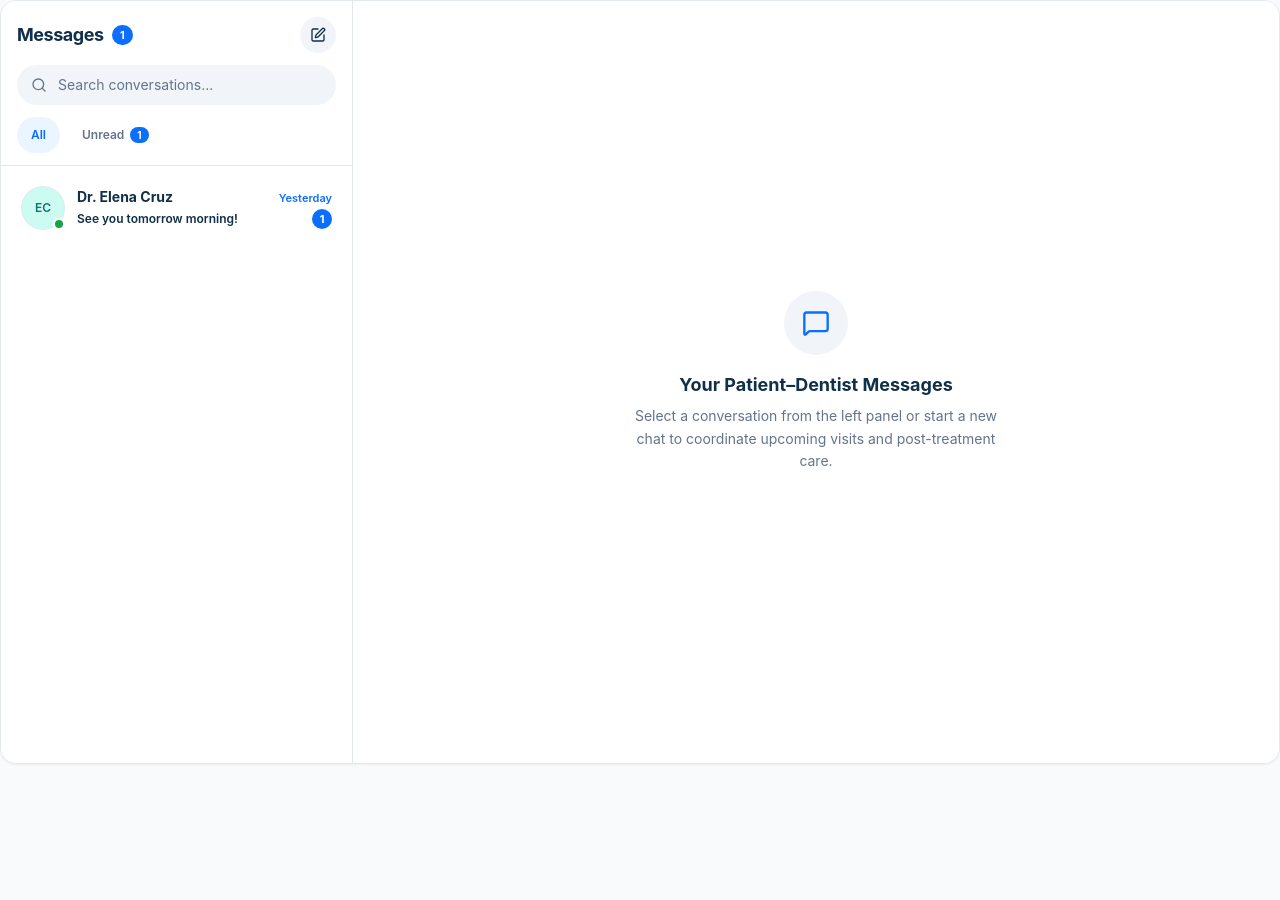
Test: Messenger-Style Patient-Dentist Chat (MessagesPage) › supports IME-safe Enter to send, Shift+Enter newline, failed send retry, and typing indicator
Click the button with test id "conversation-item-1".
click(176, 208)  # box [9,174,344,242]
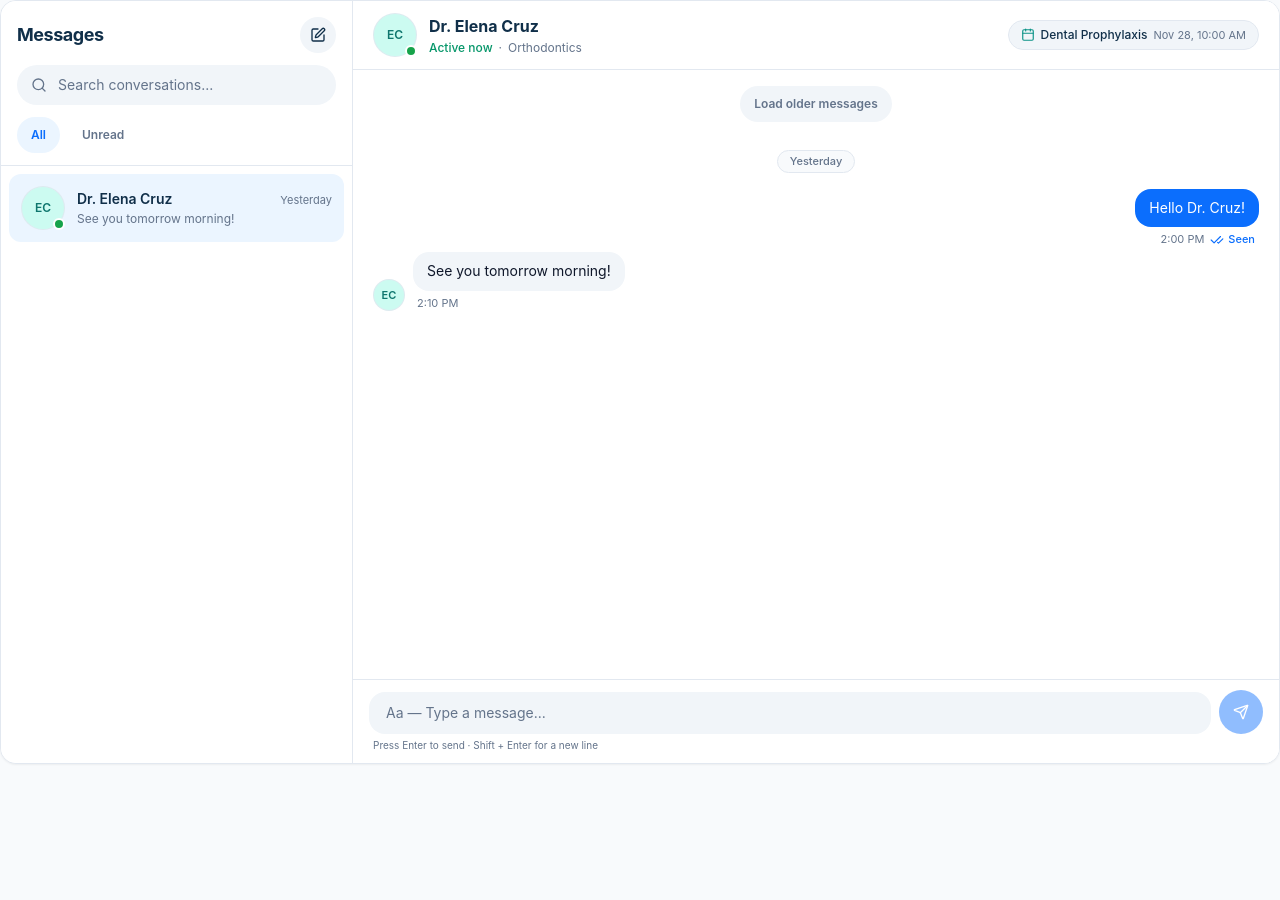
Result: the button "Hello Dr. Cruz!" is shown at [1135,188,1259,227]
Type "Can I arrive 10 minutes early?" into the text box named "Write a message".
click(790, 713); type("Can I arrive 10 minutes early?")  # box [369,692,1211,734]
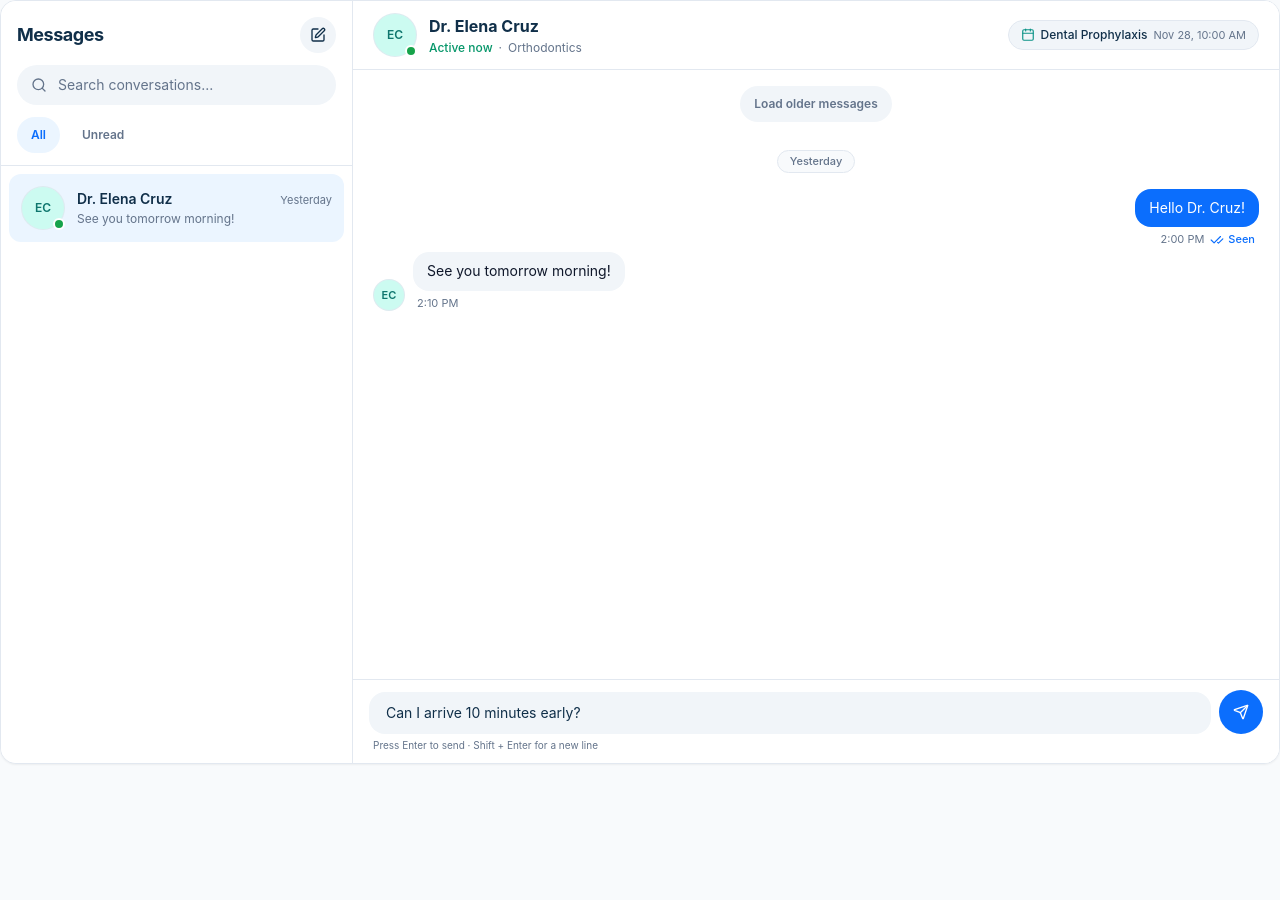
IME composing Enter MUST NOT submit
Press Enter in the text box named "Write a message", box [369,692,1211,734]
Press Enter in the text box named "Write a message", box [369,692,1211,734]
Shift+Enter MUST NOT submit
Press Enter in the text box named "Write a message", box [369,692,1211,734]
Press Enter in the text box named "Write a message", box [369,692,1211,734]
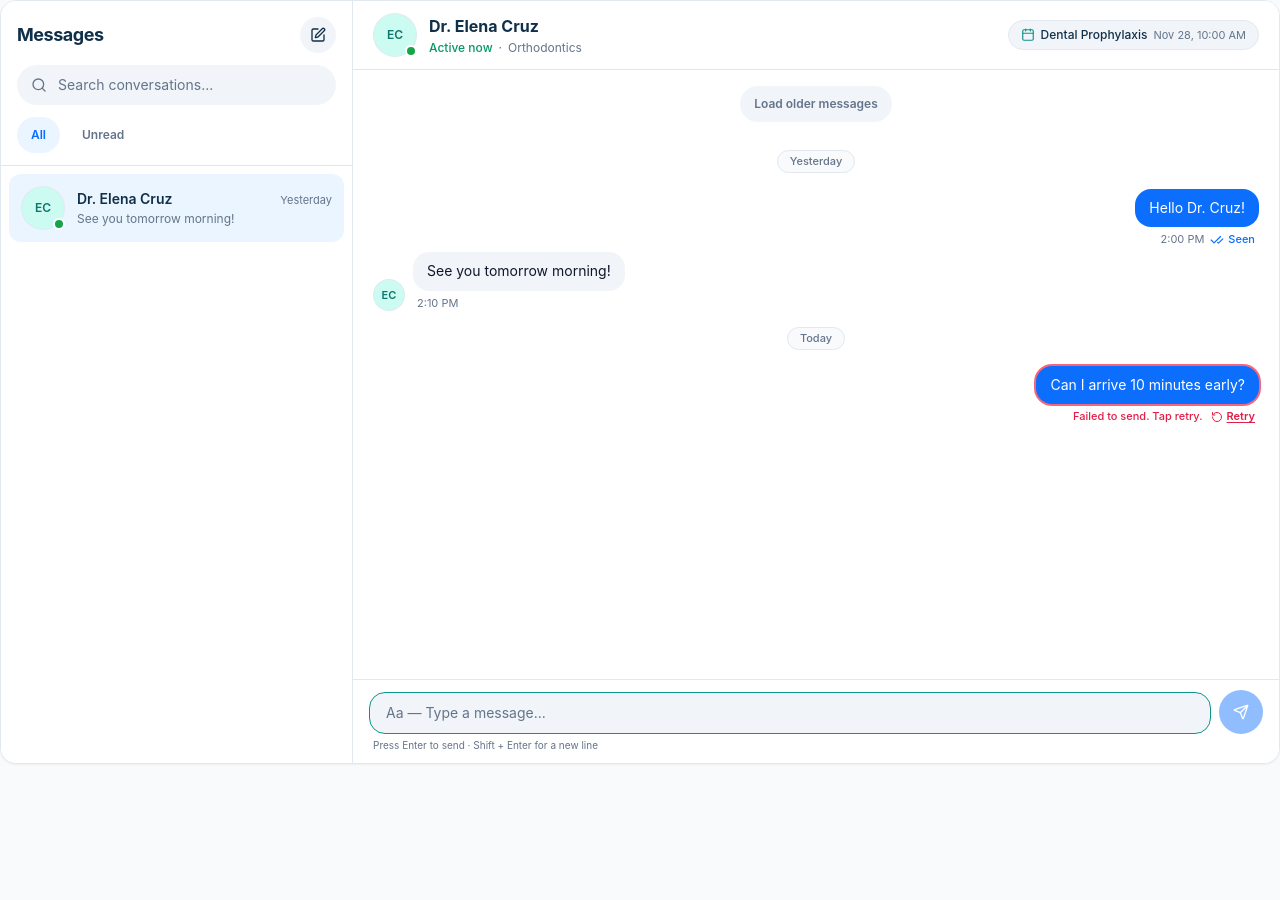
Result: the button "Retry" is shown
Clicking Retry resends with same clientMessageId and succeeds
Click the button "Retry".
click(1233, 417)  # box [1211,408,1255,425]
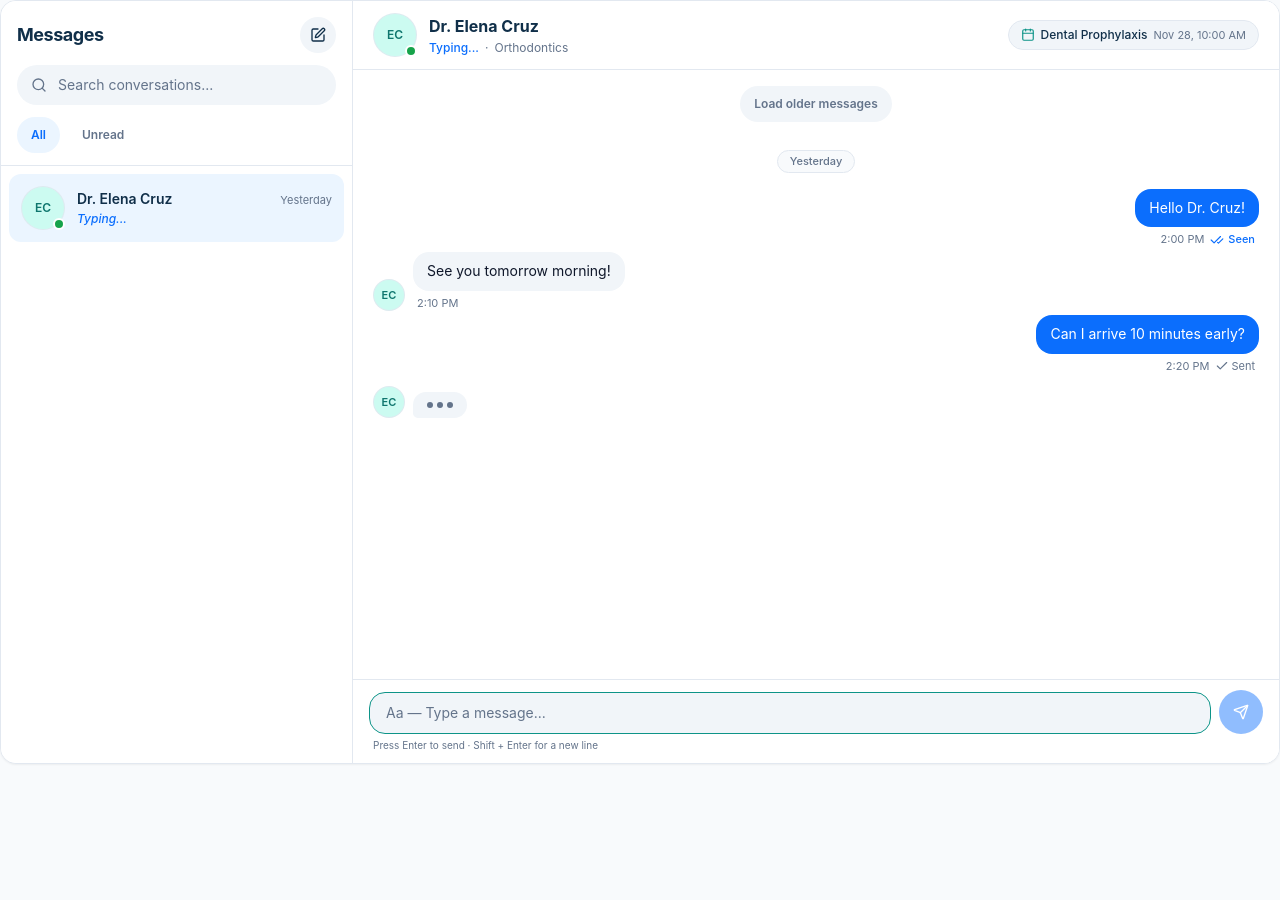
Result: the message "EC" is shown at [373,386,467,418]
